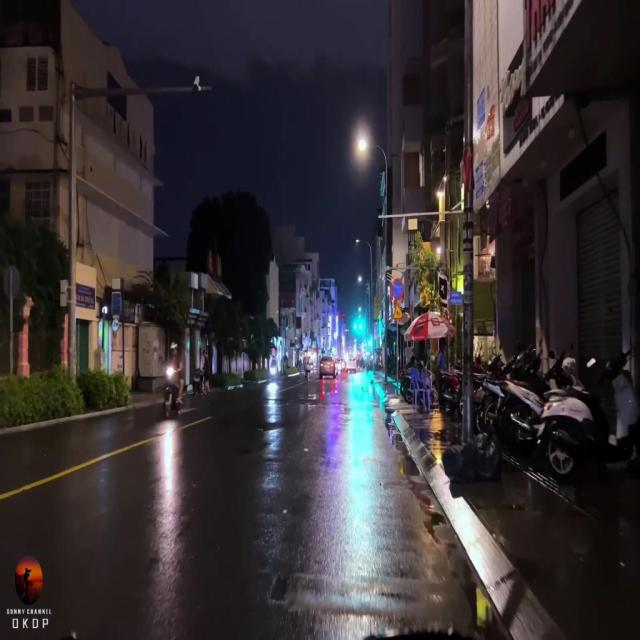cam_do_xe: (390, 278, 404, 300)
chu_y_tre_em: (391, 303, 402, 319)
